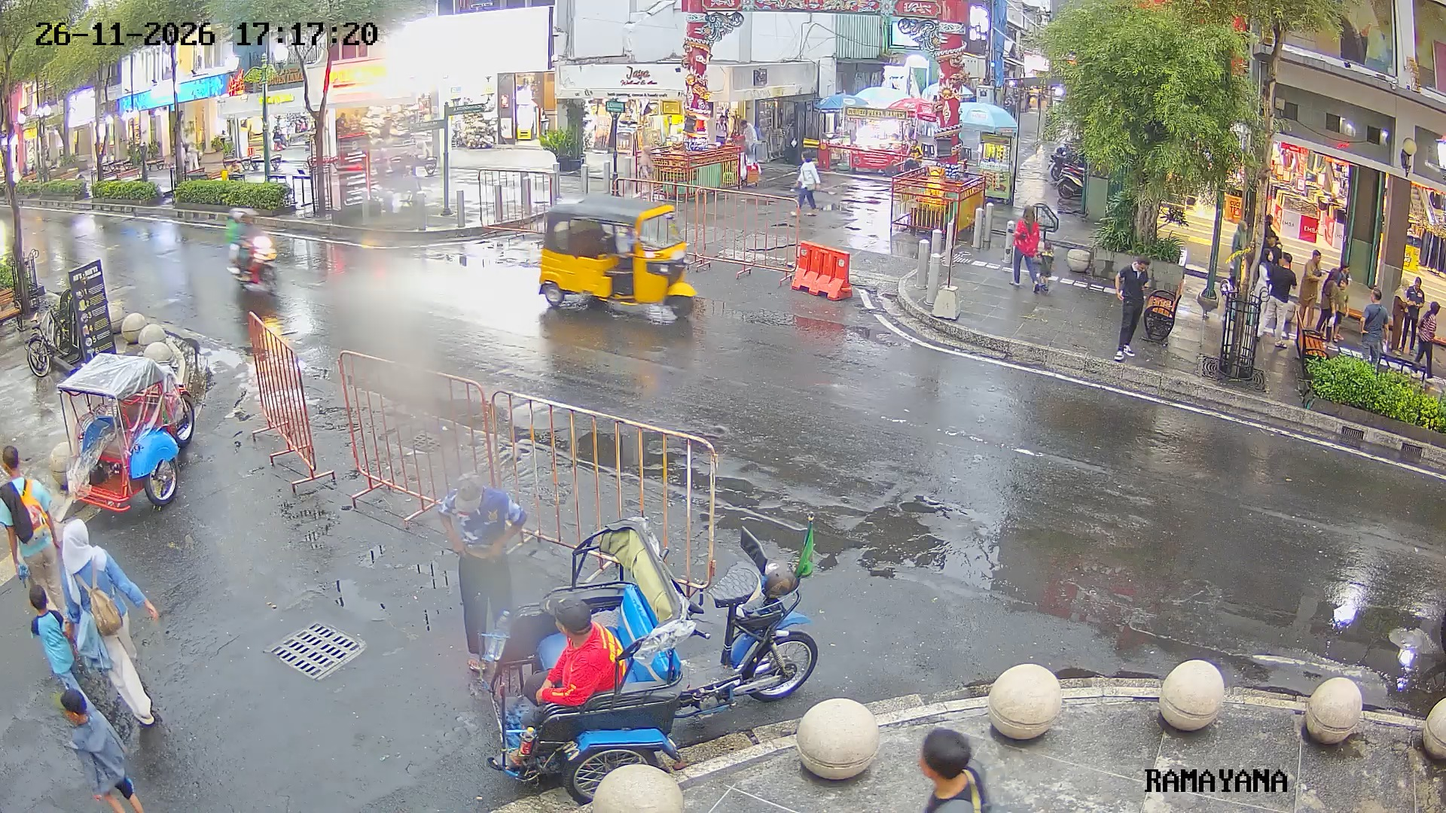Gerobak: (484, 515, 820, 803)
